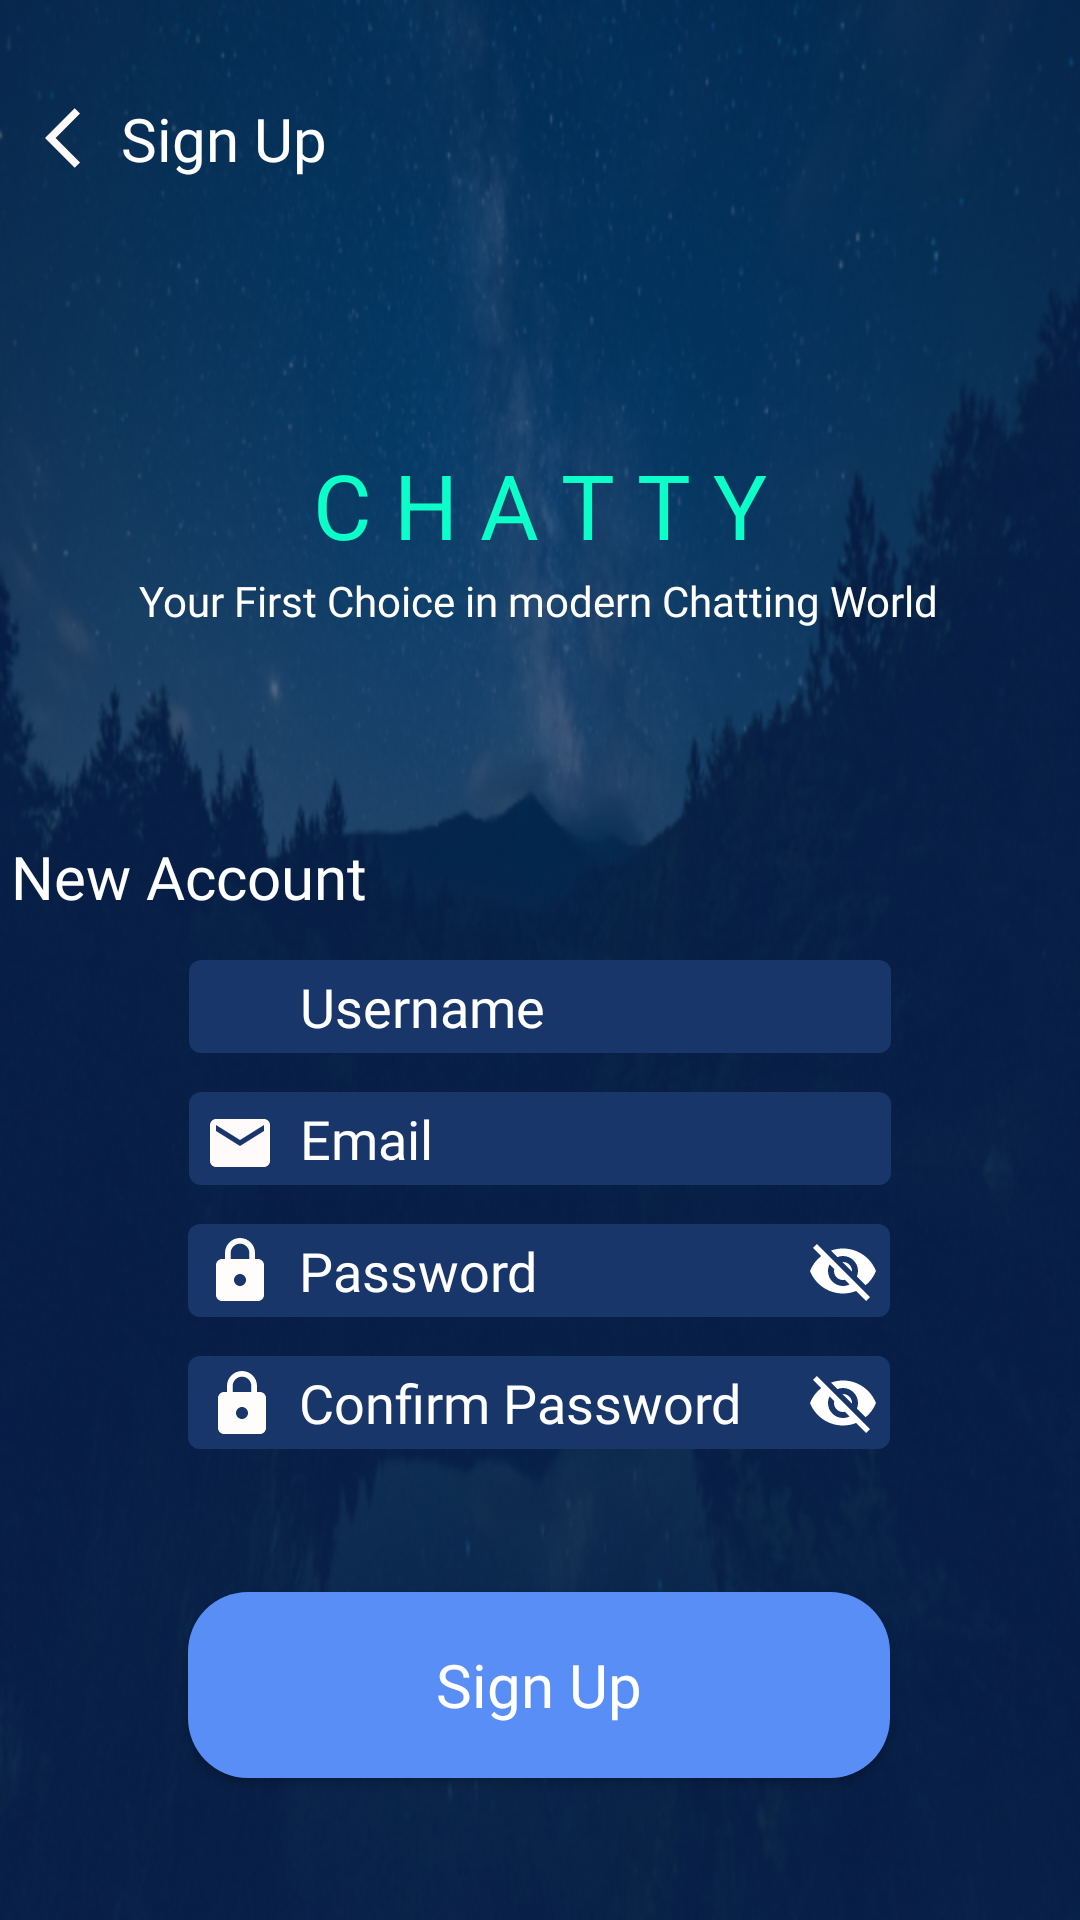

Screen size 1080px×1920px. Icon name, then its box in pixels as (x1, y1, x2, y2):
backarrow: (45, 108, 80, 168)
lock: (216, 1238, 264, 1301), (218, 1371, 266, 1434)
visibilityoff: (810, 1244, 876, 1301), (810, 1376, 876, 1433)
